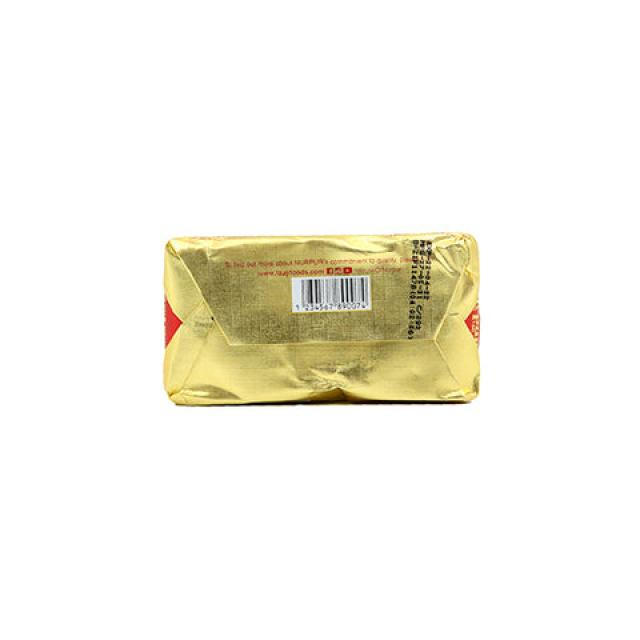butter: (161, 231, 480, 405)
